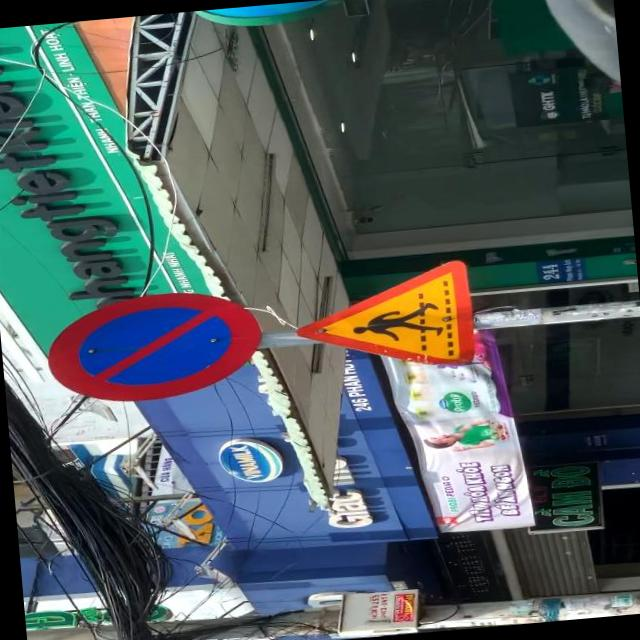P-131a: (41, 285, 263, 408)
W-224: (290, 258, 477, 378)
